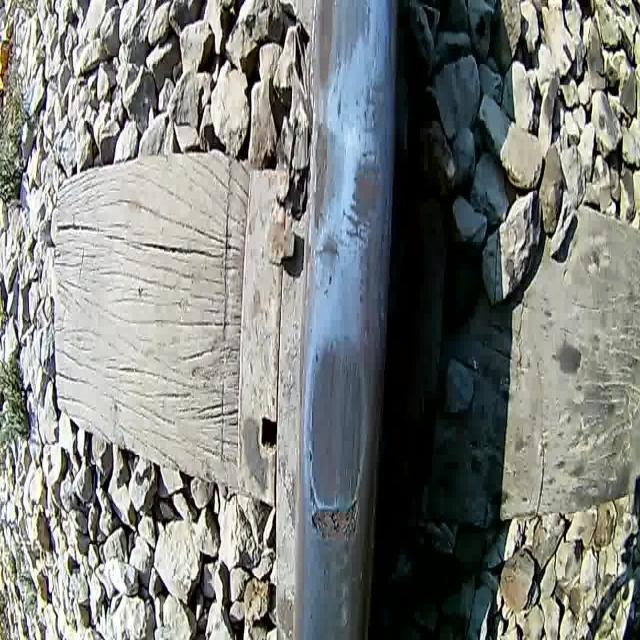Spallings: (304, 497, 366, 547)
Squats: (299, 326, 375, 555), (314, 0, 374, 101), (307, 112, 340, 271), (341, 144, 385, 253)
